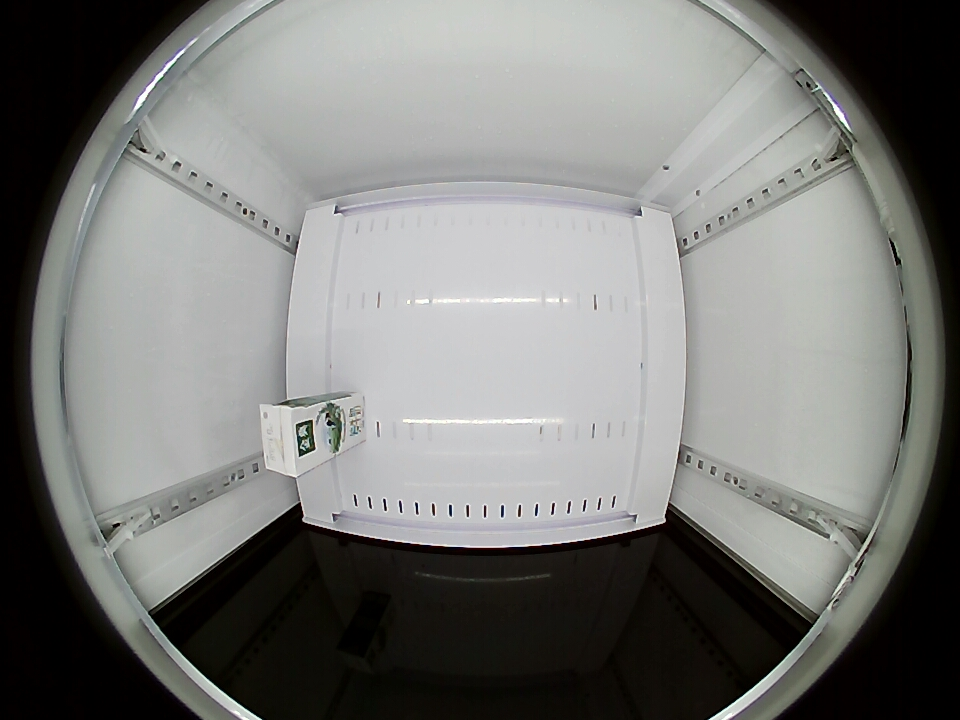jindian: (259, 399, 325, 478)
